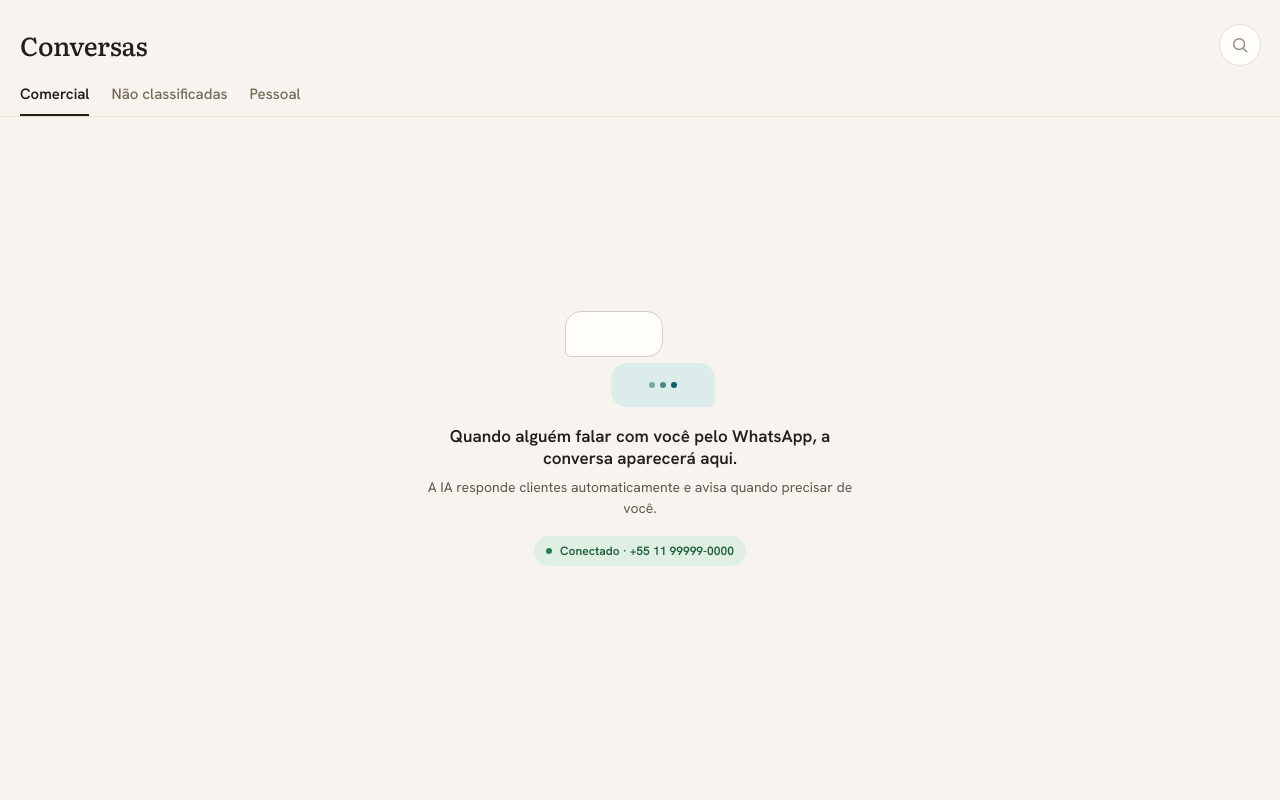
Test: ignorados têm entrada própria › a entrada consulta por ignored e diz que a IA não usa a conversa
This screenshot has width=1280, height=800.
Click the button named "Buscar conversas" at x=1240, y=45, box [1218, 23, 1262, 67]
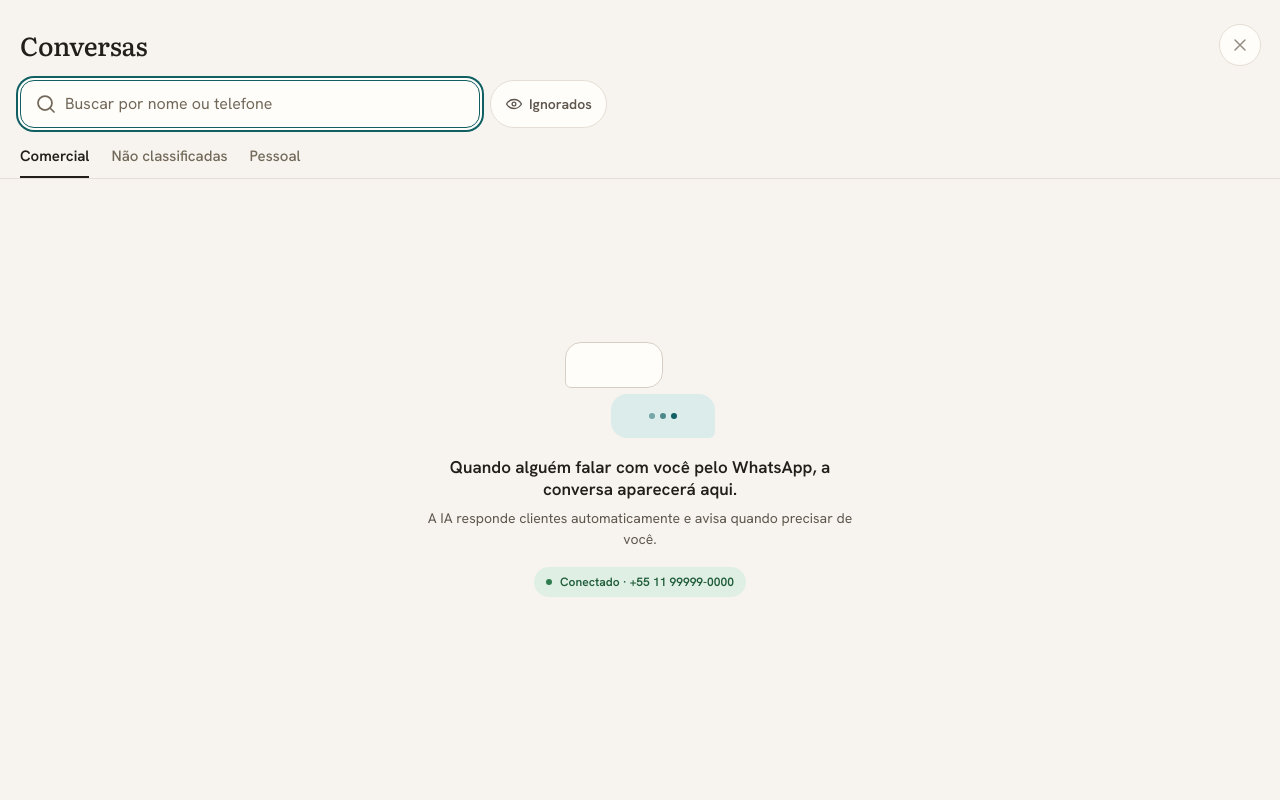
Click the button "Ignorados" at x=548, y=104, box [490, 80, 607, 128]
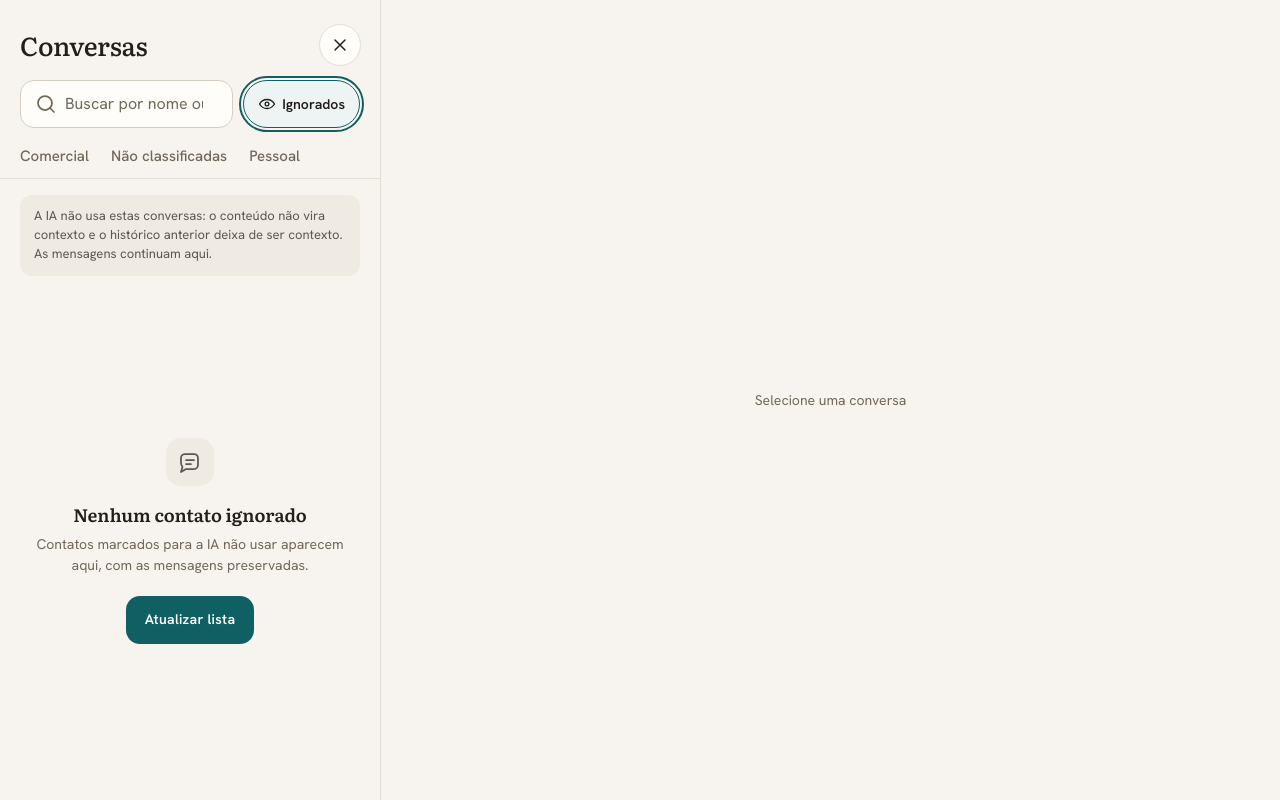
Result: the text "A IA não usa estas conversas" shows "As mensagens continuam aqui" at [34, 207, 343, 262]
